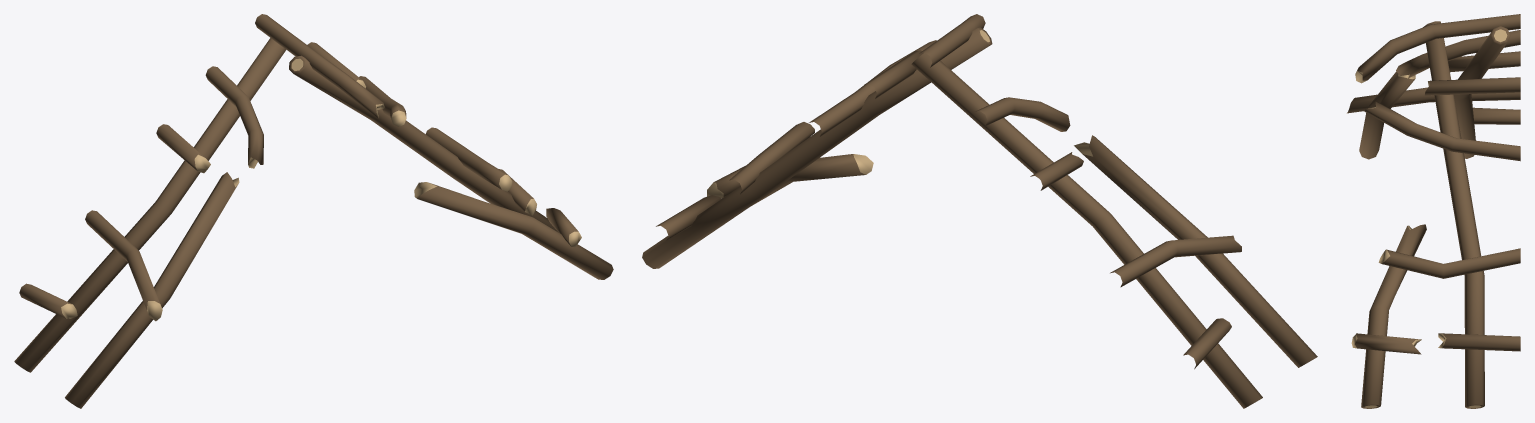
Rendered from rpgpp_av_roof_support_01_9x4x3_c.gltf.
The picture shows the model from 3 angles, left to right: view 1: azimuth 30°, elevation 25°; view 2: azimuth 150°, elevation 25°; view 3: azimuth 270°, elevation 25°; orthographic projection. The views are drawn at different scales.
Visible parts, largest first — view 1: rpgpp_av_roof_support_01_9x4x3_c; view 2: rpgpp_av_roof_support_01_9x4x3_c; view 3: rpgpp_av_roof_support_01_9x4x3_c.
Boxes of the visible parts, <box> form: rpgpp_av_roof_support_01_9x4x3_c: <box>14,14,613,408</box>; rpgpp_av_roof_support_01_9x4x3_c: <box>642,14,1317,408</box>; rpgpp_av_roof_support_01_9x4x3_c: <box>1346,14,1520,408</box>.
Bounding box in the file's own units: 0.0999 × 0.0477 × 0.0279.
Materials: 1 (1 with a texture image).
